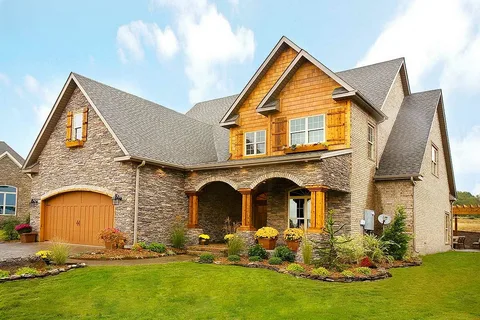private_hause: (50, 69, 401, 256)
